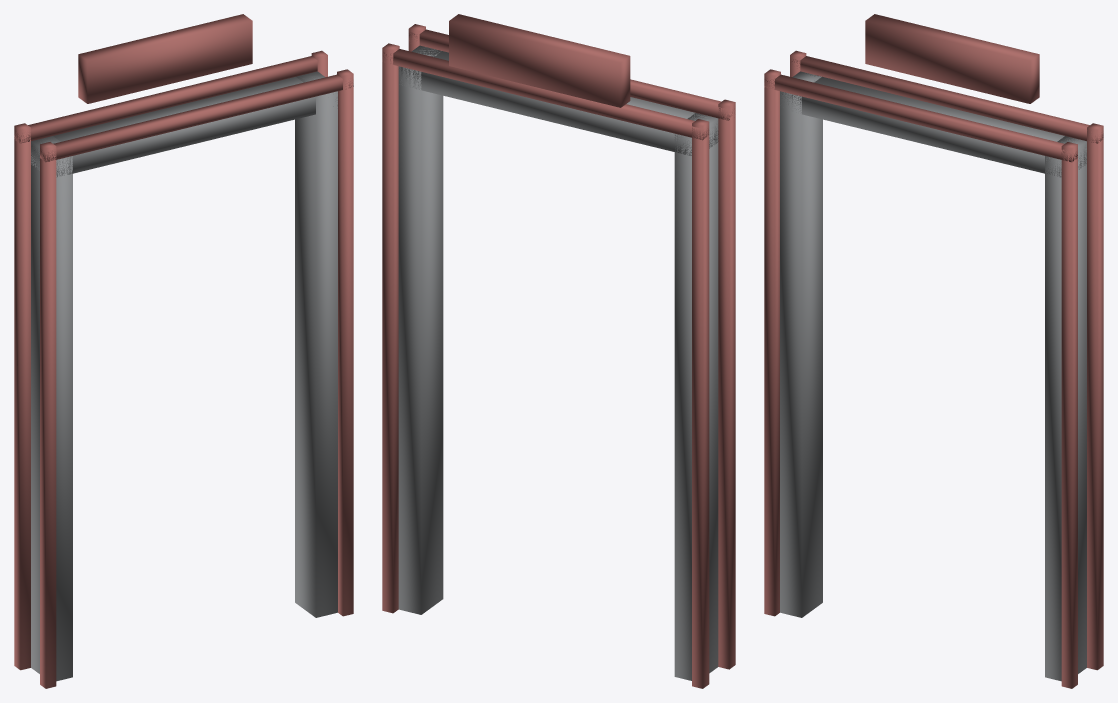
File: doorway_emergency_exit_w106_h210_d16.glb
3 renders of one model, left to right at view 1: azimuth 30°, elevation 25°; view 2: azimuth 150°, elevation 25°; view 3: azimuth 330°, elevation 25°, orthographic. The views are drawn at different scales.
Visible parts, largest first — view 1: world; view 2: world; view 3: world.
Boxes of the visible parts, box(x1,y1,x2,y2) form: world: box(14, 14, 353, 688); world: box(382, 14, 735, 688); world: box(764, 14, 1103, 688).
Bounding box in the file's own units: 1.34 × 2.46 × 0.2939.
